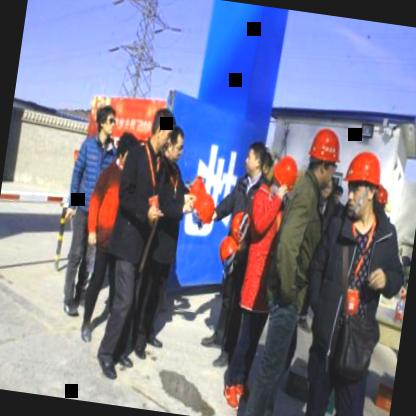head: (144, 106, 178, 154), (107, 124, 140, 171), (238, 136, 268, 178), (92, 100, 119, 137), (164, 124, 188, 164)
helmet: (340, 148, 384, 220), (302, 122, 346, 193), (268, 150, 302, 197), (370, 181, 390, 213)
